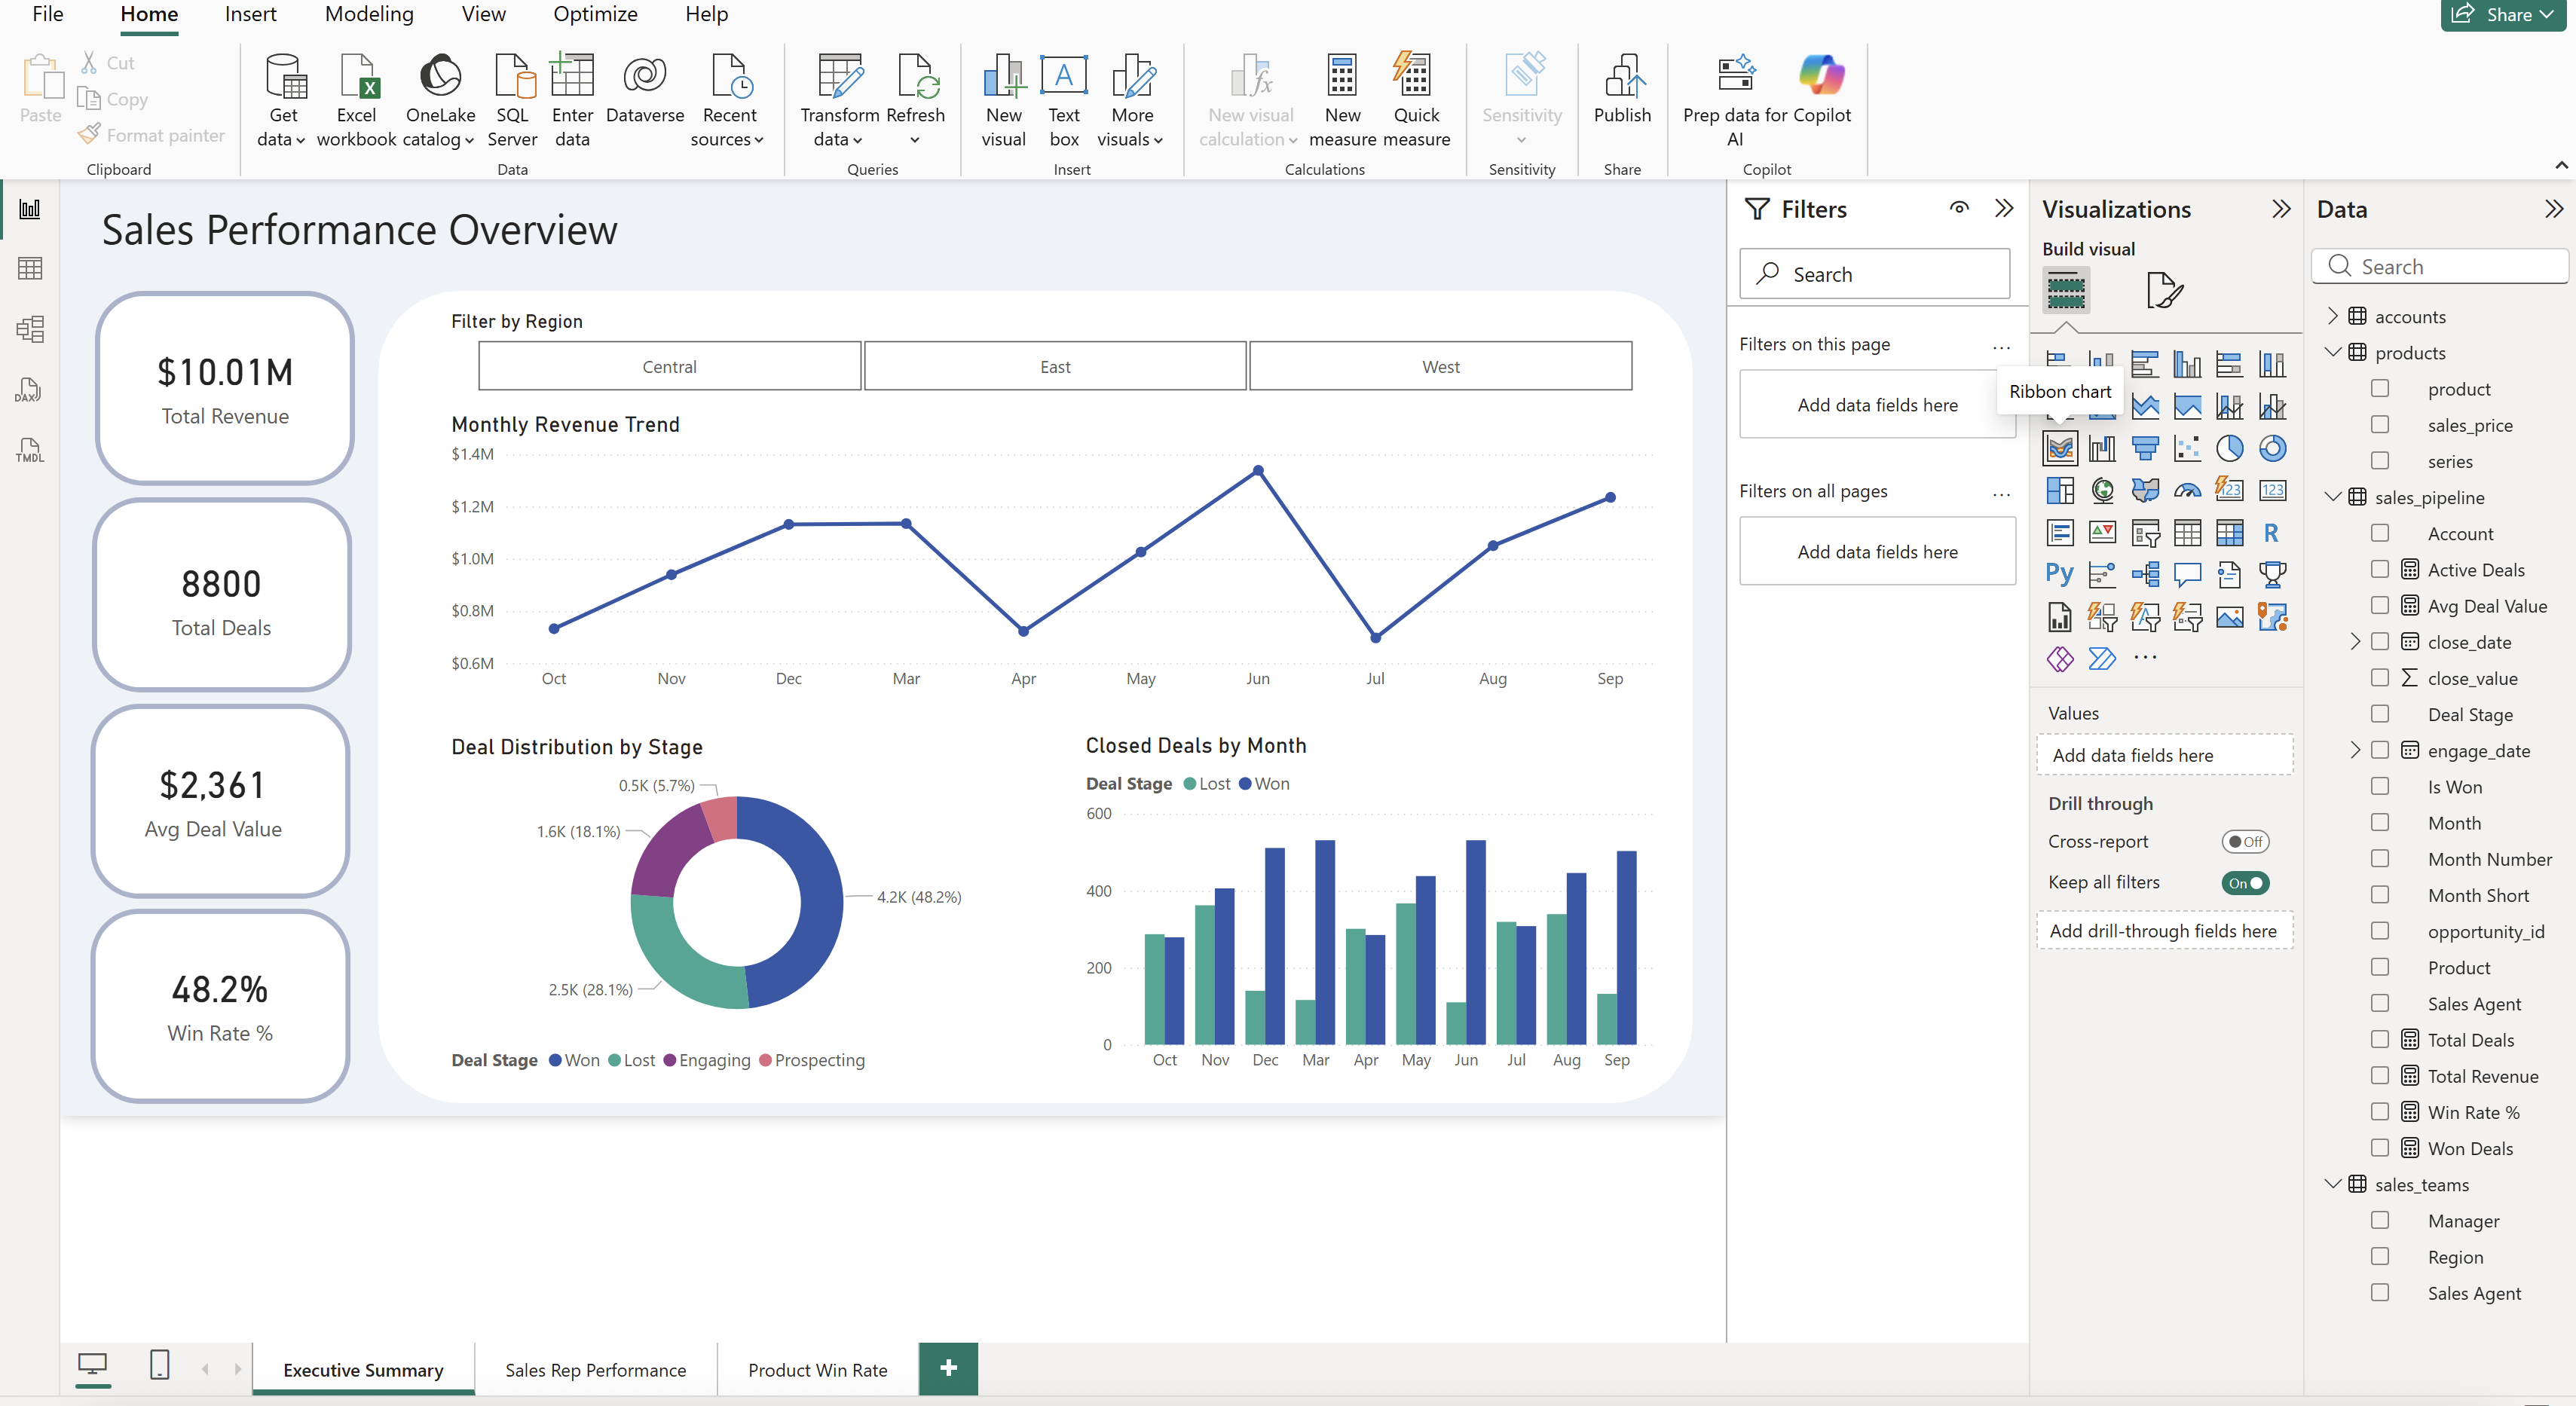

What the dashboard file says about the page in this screenshot:
{"tool":"powerbi","page":{"name":"Executive Summary","canvas":[1280,720],"ordinal":0},"visuals":[{"type":"shape","box":[26.6,85.7,199.8,149.9],"z":0,"group":"g4"},{"type":"shape","box":[244.4,85.7,1010.1,624.4],"z":1000},{"type":"lineChart","title":"Monthly Revenue Trend","fields":{"Y":["sales_pipeline.Total Revenue"],"Category":["sales_pipeline.Month Short"]},"box":[295.4,178.4,937.1,223.6],"z":2000},{"type":"shape","box":[23.2,560.7,200,150],"z":2000,"group":"g3"},{"type":"donutChart","title":"Deal Distribution by Stage","fields":{"Category":["sales_pipeline.deal_stage"],"Y":["CountNonNull(sales_pipeline.opportunity_id)"]},"box":[295.4,426.3,449.4,269.9],"z":3000},{"type":"card","fields":{"Values":["sales_pipeline.Total Revenue"]},"box":[52.1,96.9,149.4,119.3],"z":4000,"group":"g4"},{"type":"slicer","title":"Filter by Region","fields":{"Values":["sales_teams.regional_office"]},"box":[295.4,100.8,937.1,68.3],"z":4000},{"type":"shape","box":[24.3,244.8,200.2,150],"z":5000,"group":"g2"},{"type":"shape","box":[23.2,402.7,199.8,149.9],"z":5500,"group":"g1"},{"type":"group","id":"g1","title":"Group 2","box":[23.2,402.7,200.4,149.4],"z":6000},{"type":"card","fields":{"Values":["sales_pipeline.Avg Deal Value"]},"box":[43.3,414.7,149.4,119.3],"z":6000,"group":"g1"},{"type":"card","fields":{"Values":["sales_pipeline.Win Rate %"]},"box":[47.3,571.1,150.6,120.5],"z":6000,"group":"g3"},{"type":"group","id":"g2","title":"Group 1","box":[24.3,244.8,200.4,149.4],"z":7000},{"type":"group","id":"g3","title":"Group 5","box":[23.2,560.7,200.4,149.4],"z":8000},{"type":"group","id":"g4","title":"Group 6","box":[26.6,85.7,200.4,150.6],"z":9000},{"type":"clusteredColumnChart","title":"Closed Deals by Month","fields":{"Category":["sales_pipeline.Month Short"],"Y":["sales_pipeline.Total Deals"],"Series":["sales_pipeline.Deal Stage"]},"box":[783.1,425.1,449.4,269.9],"z":10000},{"type":"textbox","box":[26.6,10.4,1086.6,62.6],"z":10001},{"type":"card","fields":{"Values":["sales_pipeline.Total Deals"]},"box":[48.4,260.2,150.6,120.5],"z":12000,"group":"g2"}]}

Visuals, with their boxes on the page's 1280x720 design canvas (x1, y1, x2, y2). These are canvas units, not pixel positions in the 2576x1406 screenshot, which may show the page scaled, cropped or inside an application window:
shape: box(27, 86, 226, 236)
shape: box(244, 86, 1254, 710)
"Monthly Revenue Trend" lineChart: box(295, 178, 1232, 402)
shape: box(23, 561, 223, 711)
"Deal Distribution by Stage" donutChart: box(295, 426, 745, 696)
card - sales_pipeline.Total Revenue: box(52, 97, 202, 216)
"Filter by Region" slicer: box(295, 101, 1232, 169)
shape: box(24, 245, 224, 395)
shape: box(23, 403, 223, 553)
"Group 2" group: box(23, 403, 224, 552)
card - sales_pipeline.Avg Deal Value: box(43, 415, 193, 534)
card - sales_pipeline.Win Rate %: box(47, 571, 198, 692)
"Group 1" group: box(24, 245, 225, 394)
"Group 5" group: box(23, 561, 224, 710)
"Group 6" group: box(27, 86, 227, 236)
"Closed Deals by Month" clusteredColumnChart: box(783, 425, 1232, 695)
textbox: box(27, 10, 1113, 73)
card - sales_pipeline.Total Deals: box(48, 260, 199, 381)
